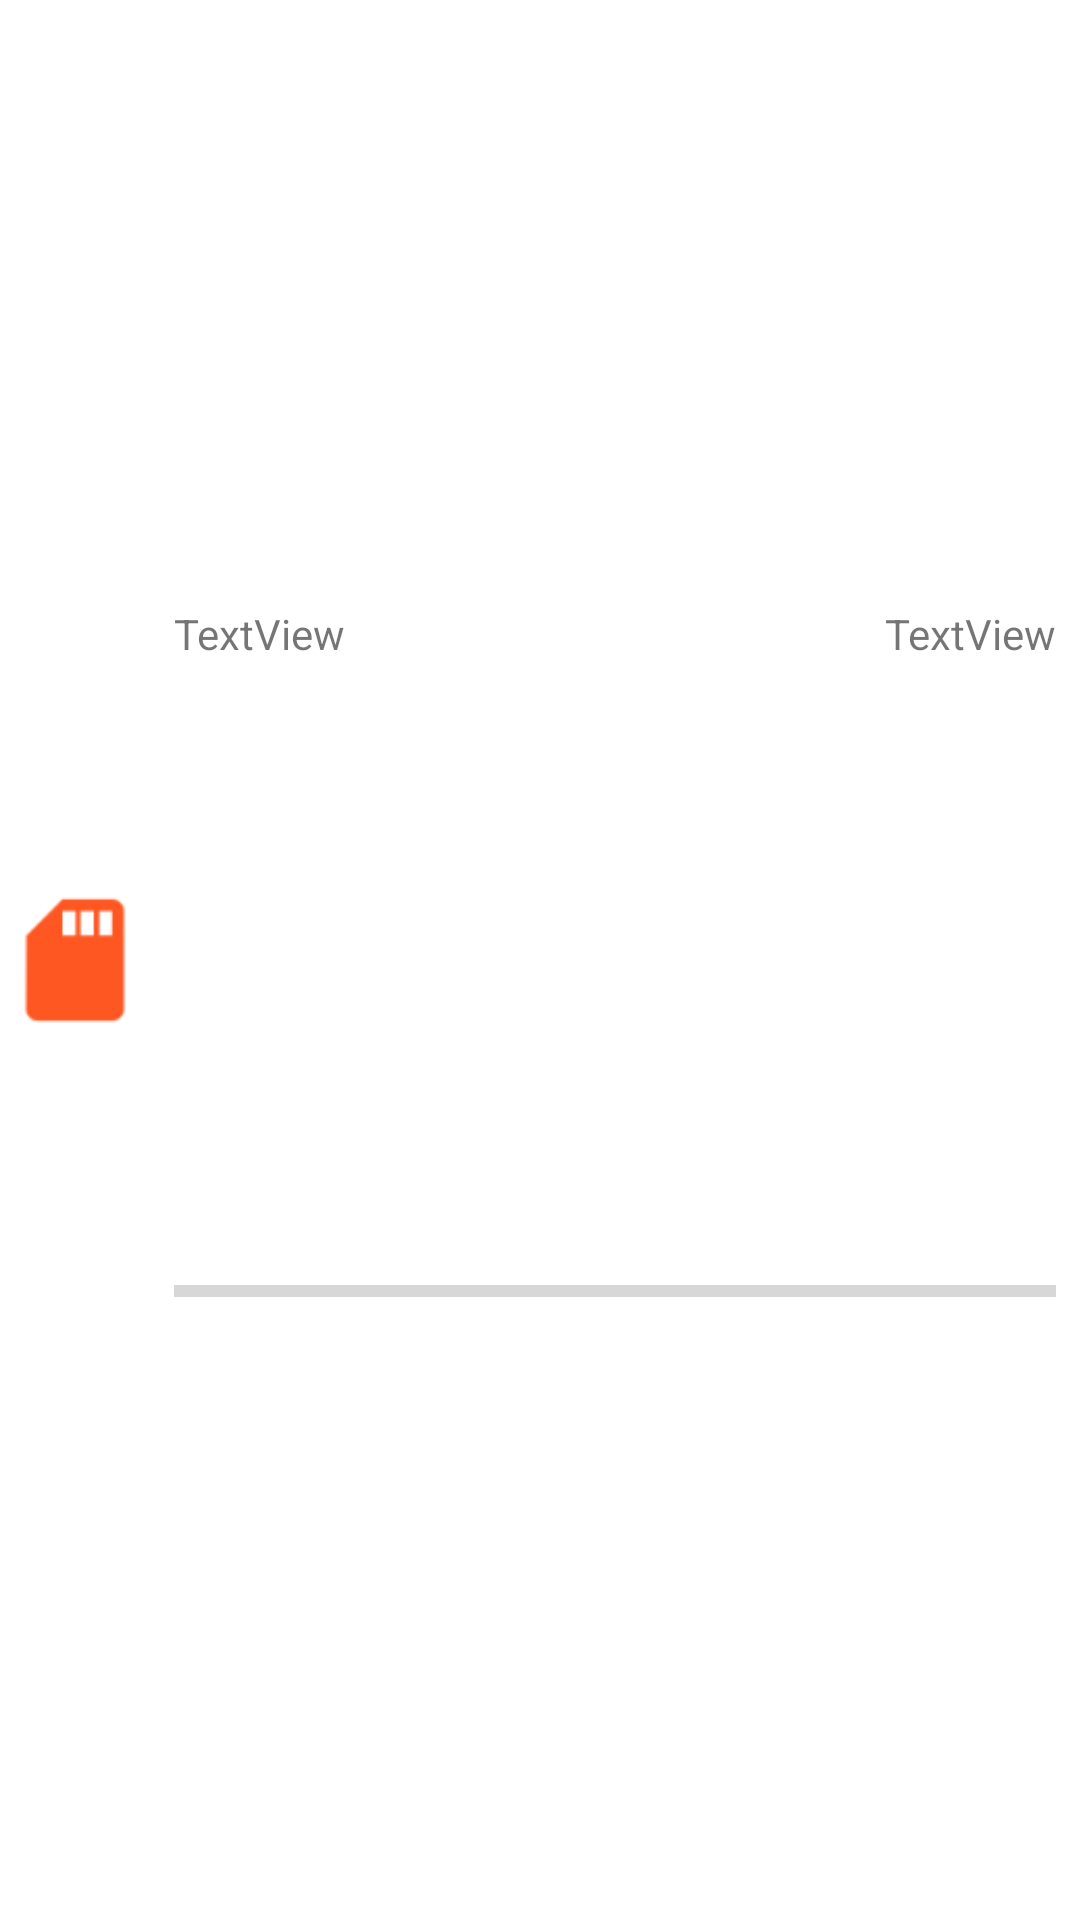

Where icons sit on this 1080w x 1920h app screen, as (x1, y1, x2, y2):
sd card: (24, 898, 126, 1023)
